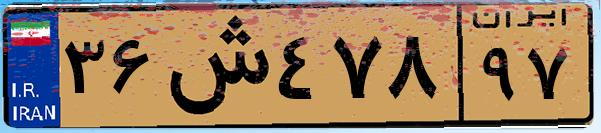3: (57, 26, 110, 100)
4: (270, 28, 330, 110)
6: (110, 28, 158, 98)
7: (330, 28, 385, 110), (525, 38, 570, 115)
8: (385, 28, 445, 110)
9: (475, 38, 525, 113)
ش: (158, 12, 270, 120)
